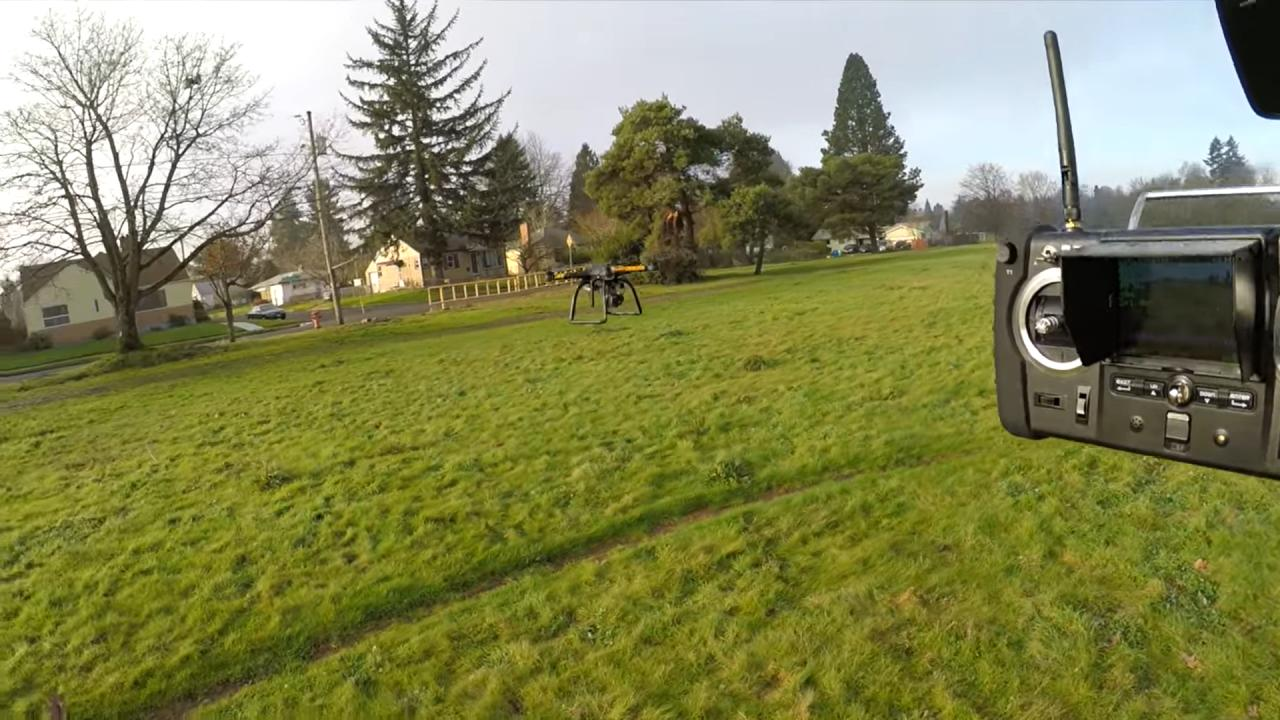Drone: (536, 252, 672, 334)
